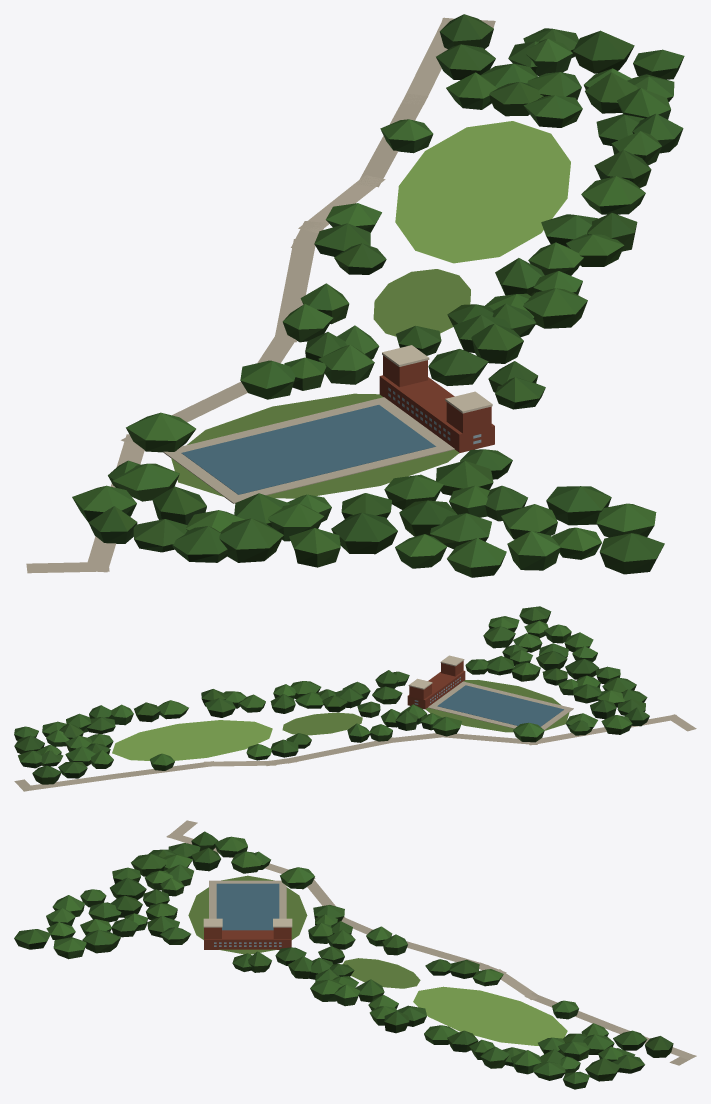
3 views of the same model, one above another, from view 1: azimuth 30°, elevation 25°; view 2: azimuth 150°, elevation 25°; view 3: azimuth 270°, elevation 25° (orthographic). The views are drawn at different scales.
Visible parts, largest first — view 1: astoria-park-lod1; view 2: astoria-park-lod1; view 3: astoria-park-lod1.
Part boxes in pixels (x1=…): astoria-park-lod1: x1=26, y1=14, x2=684, y2=577; astoria-park-lod1: x1=14, y1=606, x2=696, y2=791; astoria-park-lod1: x1=14, y1=820, x2=696, y2=1089.
Size of the model in its own units: 818 by 31.96 by 873.
